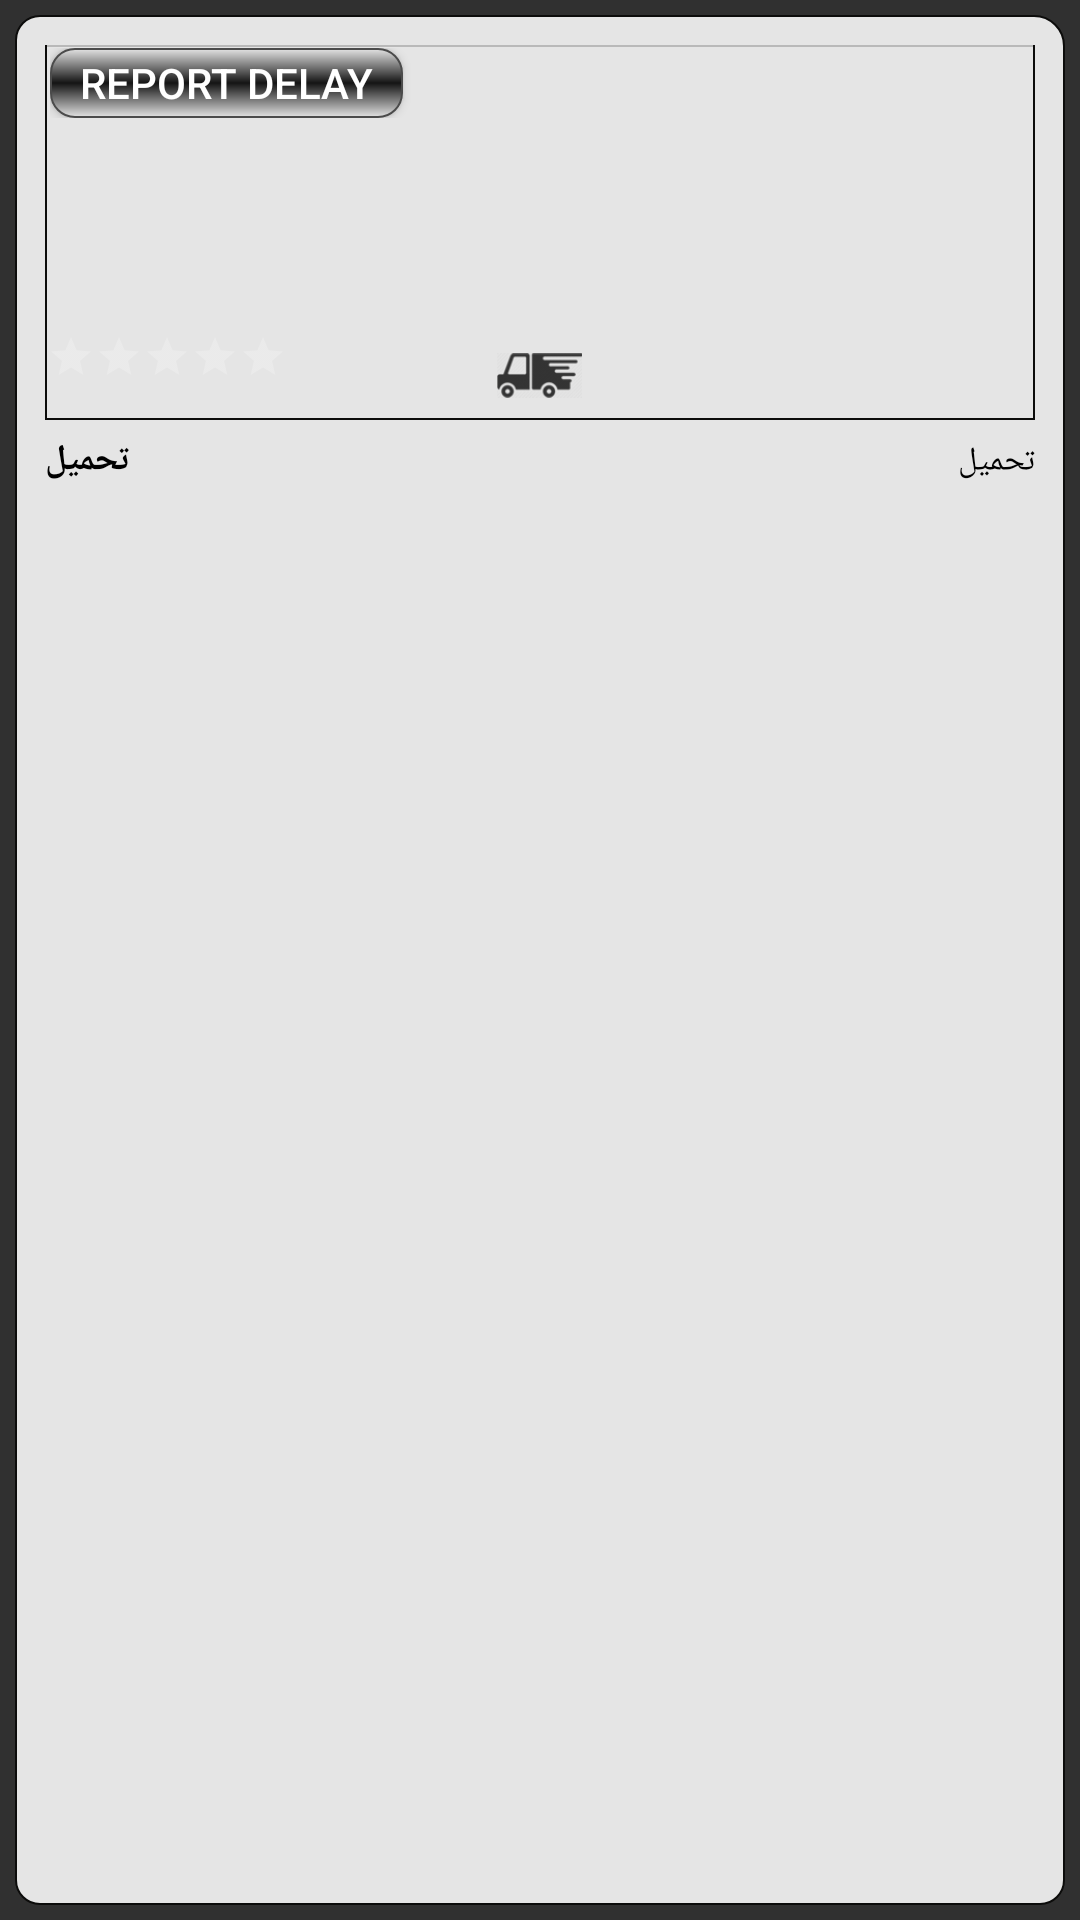

Icon bounding boxes for this 1080*1920 phone screenshot, format (x1, y1, x2, y2):
deliverable: (497, 353, 582, 398)
